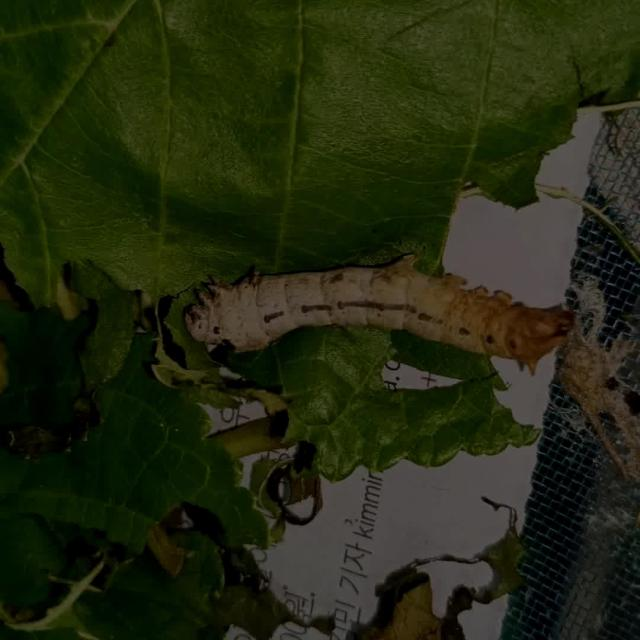Grasserie: (178, 244, 578, 390)
